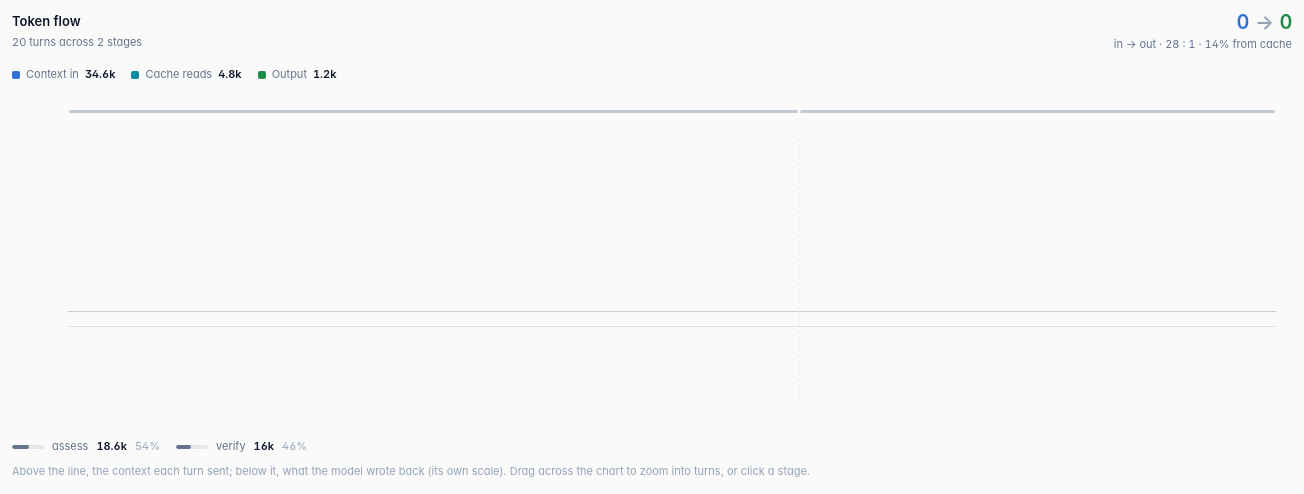
Test: TokenFlow › drops a zoom the data no longer covers
Click the button "verify 16k 46%": click(242, 447) [176,438,307,455]
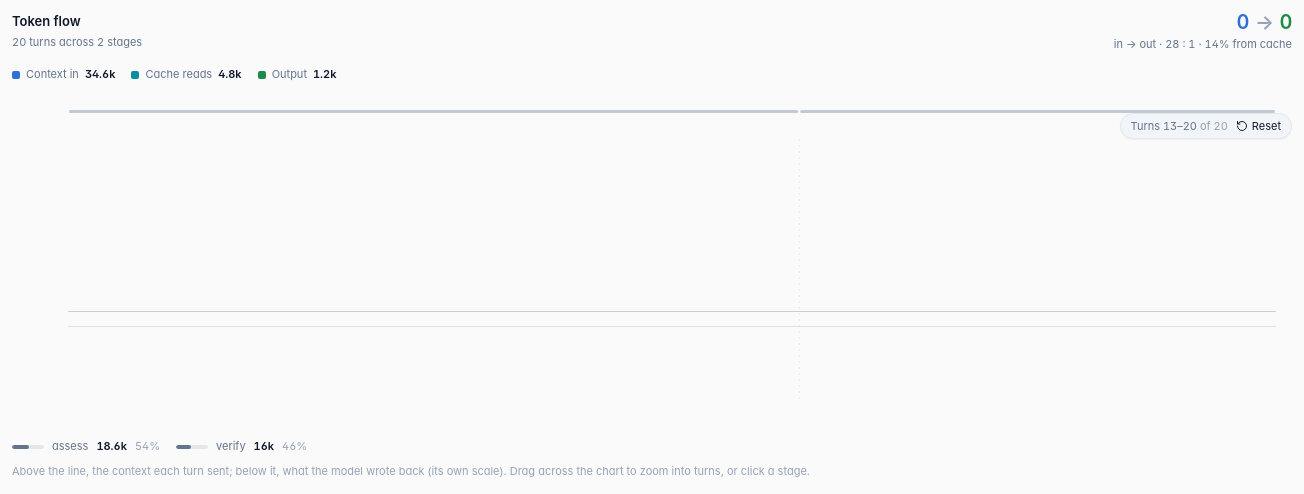
Expected: the text "Turns 13–20 of 20" is shown, [1131,118,1228,134]
